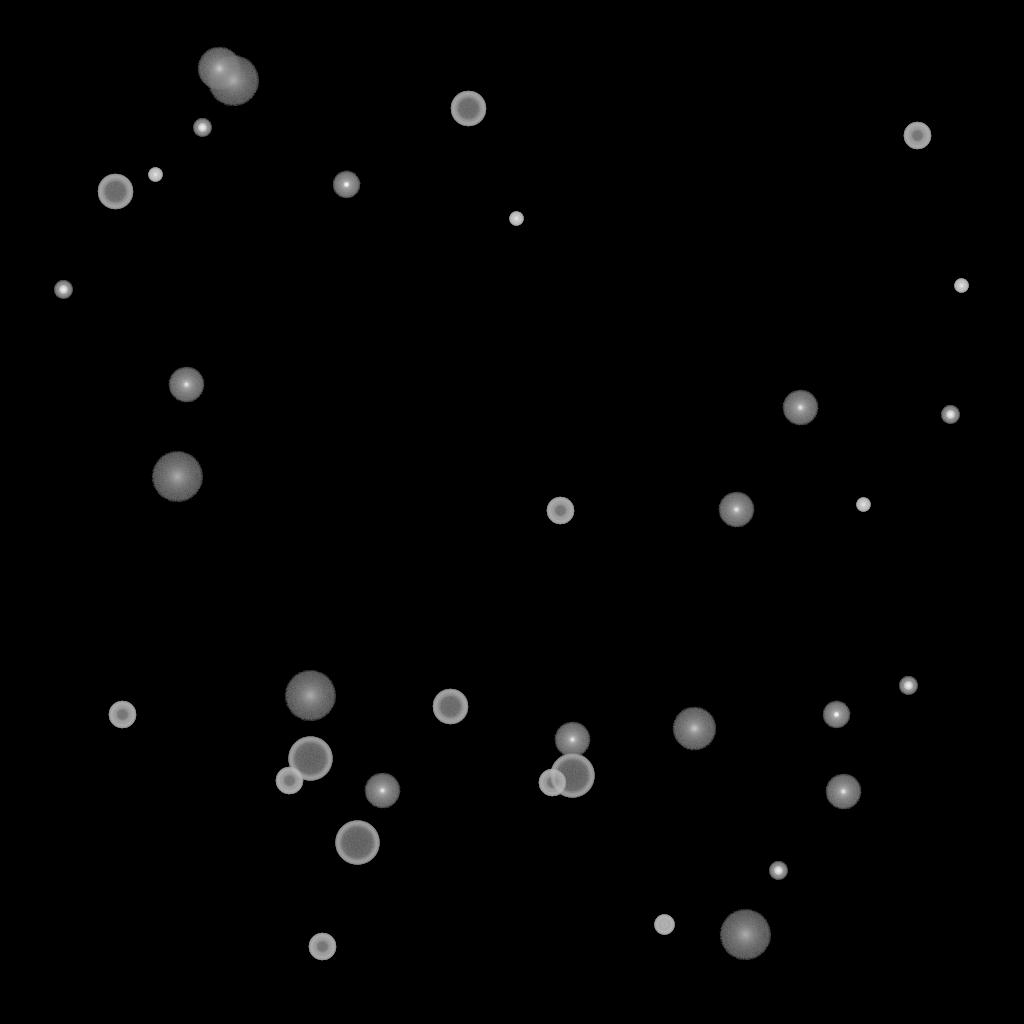depth:-10: (822, 701, 850, 729), (332, 171, 360, 199)
depth:-20: (941, 406, 959, 424), (899, 677, 917, 695), (54, 281, 72, 299), (769, 862, 787, 880), (193, 119, 211, 137)
depth:-30: (509, 212, 523, 226), (954, 279, 968, 293), (856, 498, 870, 512), (148, 168, 162, 182)
depth:-40: (654, 915, 674, 935)
depth:-50: (275, 767, 303, 795), (308, 933, 336, 961), (903, 122, 931, 150), (546, 497, 574, 525), (108, 701, 136, 729), (538, 769, 566, 797)
depth:-60: (97, 174, 133, 210), (432, 689, 468, 725), (450, 91, 486, 127)
depth:-70: (550, 754, 594, 798), (288, 737, 332, 781), (335, 821, 379, 865)
depth:0: (554, 722, 590, 758), (718, 492, 754, 528), (364, 773, 400, 809), (825, 774, 861, 810), (782, 390, 818, 426), (168, 367, 204, 403)
depth:10: (672, 707, 716, 751), (197, 47, 241, 91)
depth:20: (207, 56, 259, 106), (719, 910, 771, 960), (151, 452, 203, 502), (284, 671, 336, 721)
